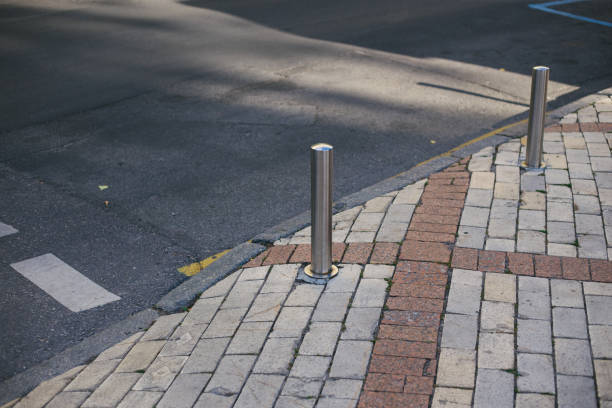bollard: (306, 140, 341, 282), (519, 64, 550, 170)
